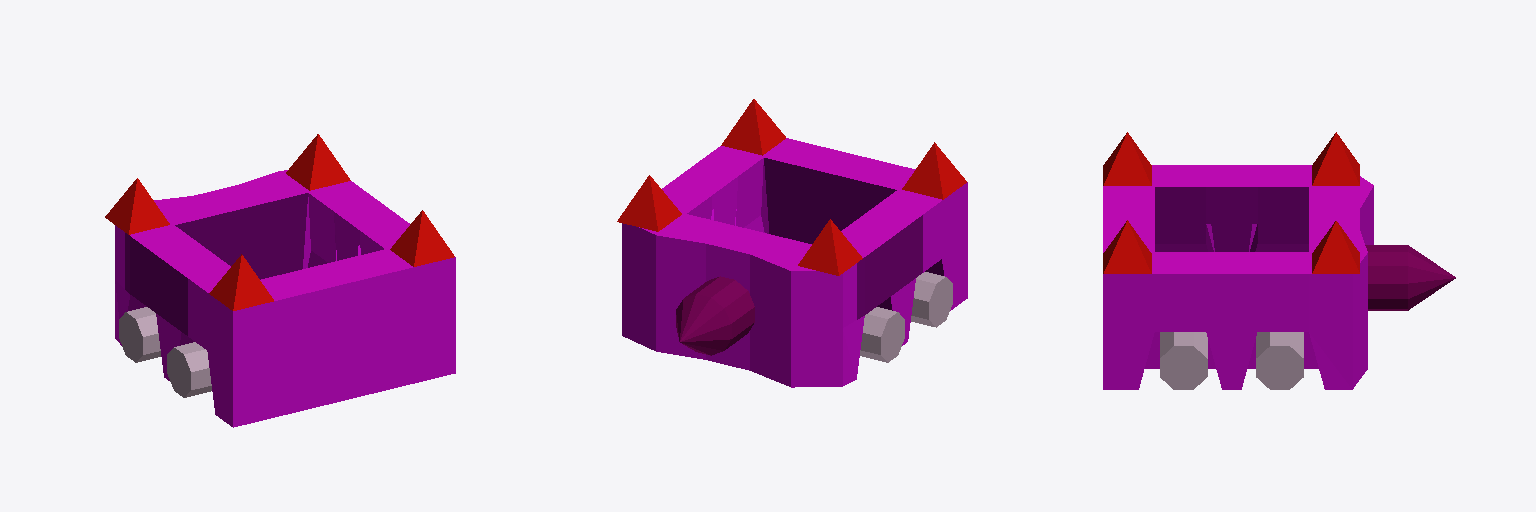
The picture shows the model from 3 angles: view 1: azimuth 30°, elevation 25°; view 2: azimuth 150°, elevation 25°; view 3: azimuth 270°, elevation 25°; orthographic projection.
Visible parts, largest first — view 1: main_car, cylinder, top_spike_rear_left, top_spike_front_right, top_spike_front_left, top_spike_rear_right; view 2: main_car, cylinder, cone, top_spike_rear_left, top_spike_rear_right, top_spike_front_left, top_spike_front_right; view 3: main_car, cylinder, top_spike_rear_left, top_spike_rear_right, top_spike_front_left, top_spike_front_right, cone.
Part boxes in pixels (left/top/right/bottom): main_car: left=115, top=170, right=455, bottom=427; cylinder: left=119, top=307, right=211, bottom=397; top_spike_rear_left: left=209, top=254, right=273, bottom=310; top_spike_front_right: left=286, top=134, right=350, bottom=190; top_spike_front_left: left=105, top=178, right=169, bottom=234; top_spike_rear_right: left=390, top=210, right=454, bottom=266; main_car: left=622, top=138, right=967, bottom=387; cylinder: left=685, top=272, right=952, bottom=362; cone: left=676, top=294, right=731, bottom=355; top_spike_rear_left: left=902, top=142, right=966, bottom=199; top_spike_rear_right: left=721, top=99, right=785, bottom=155; top_spike_front_left: left=798, top=219, right=862, bottom=275; top_spike_front_right: left=617, top=175, right=681, bottom=231; main_car: left=1103, top=165, right=1373, bottom=389; cylinder: left=1160, top=245, right=1407, bottom=389; top_spike_rear_left: left=1103, top=132, right=1151, bottom=185; top_spike_rear_right: left=1103, top=220, right=1151, bottom=273; top_spike_front_left: left=1312, top=132, right=1359, bottom=185; top_spike_front_right: left=1312, top=221, right=1359, bottom=273; cone: left=1408, top=245, right=1455, bottom=310.
Size of the model in its own units: 1.12 by 0.6875 by 1.38.
Materials: 1 (1 with a texture image).